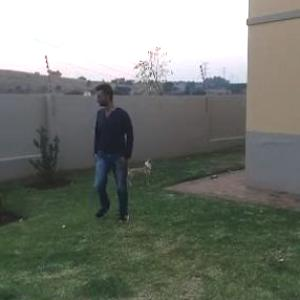follow: (92, 83, 136, 218)
